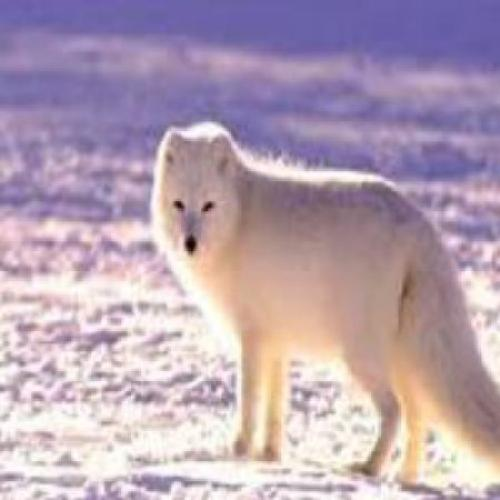arctic_fox-endangered: (150, 121, 500, 488)
